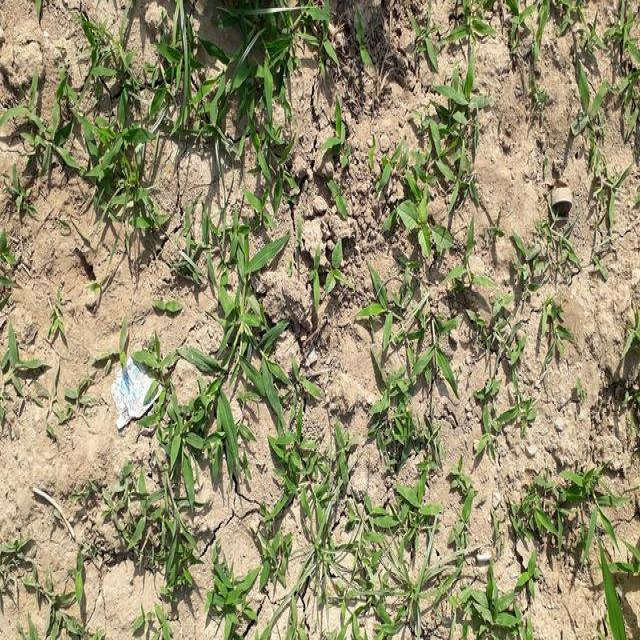weed: (164, 296, 376, 640), (395, 428, 640, 640), (199, 9, 349, 266), (23, 22, 193, 237), (372, 74, 504, 274), (389, 282, 557, 416)
